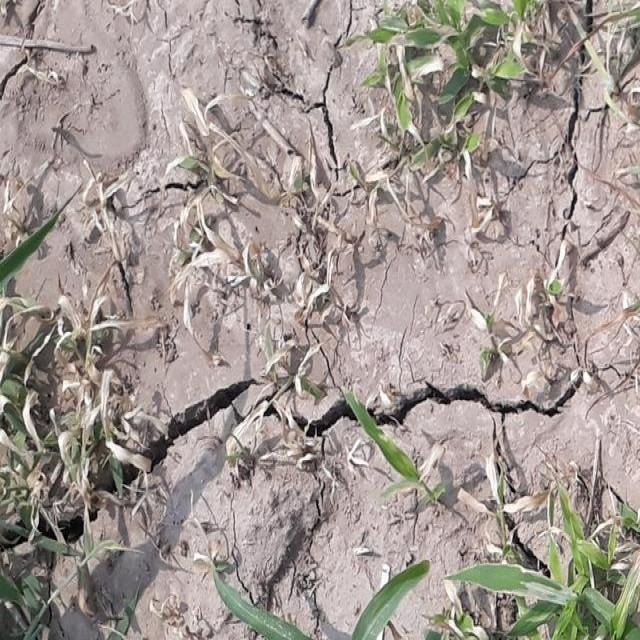weed: (455, 479, 640, 640), (370, 0, 528, 173)
